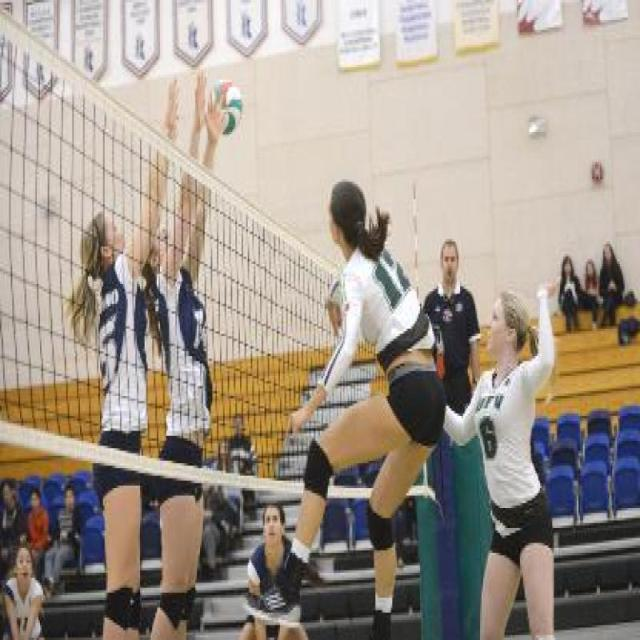volleyball: (209, 80, 243, 137)
